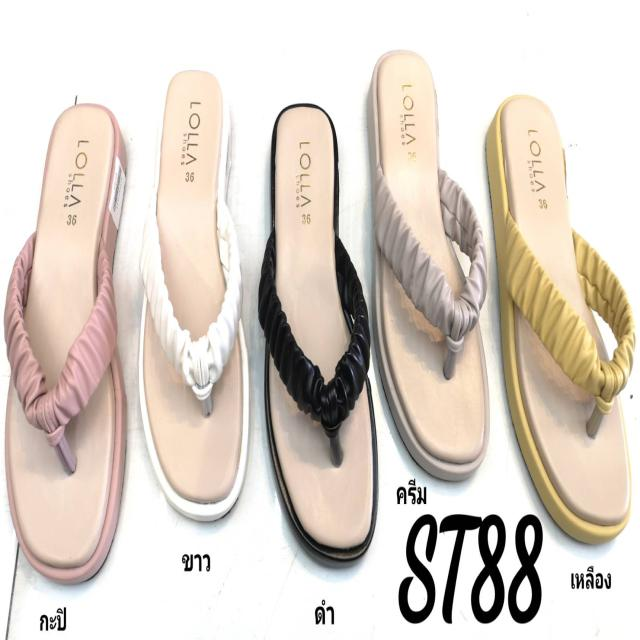black: (270, 103, 382, 562)
cream: (368, 51, 493, 476)
kapi: (9, 113, 124, 577)
white: (138, 68, 252, 516)
yellow: (476, 85, 630, 545)
